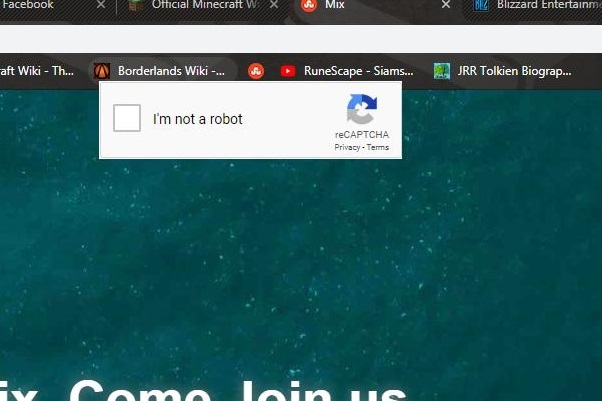captcha: (114, 104, 243, 132)
